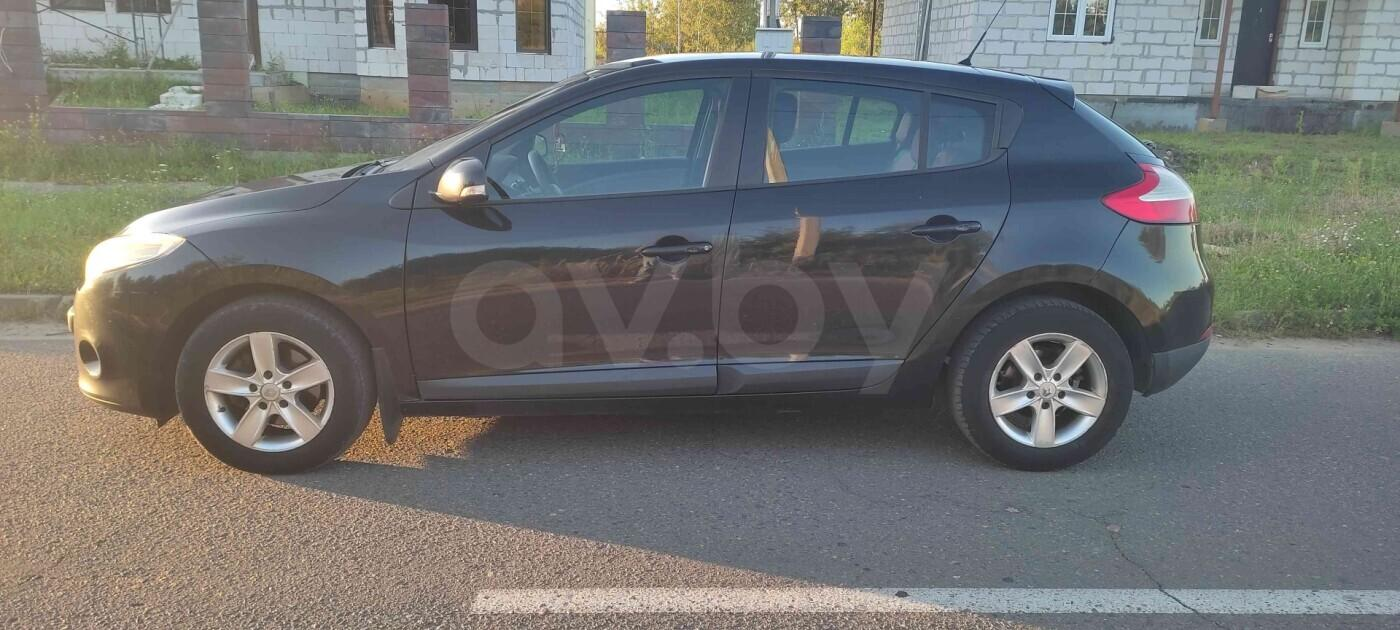Megane_2008-2014: (70, 54, 1205, 488)
